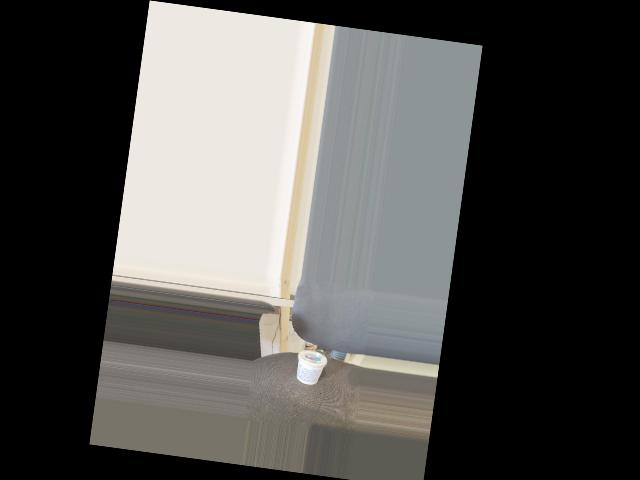cotage: (297, 347, 327, 387)
